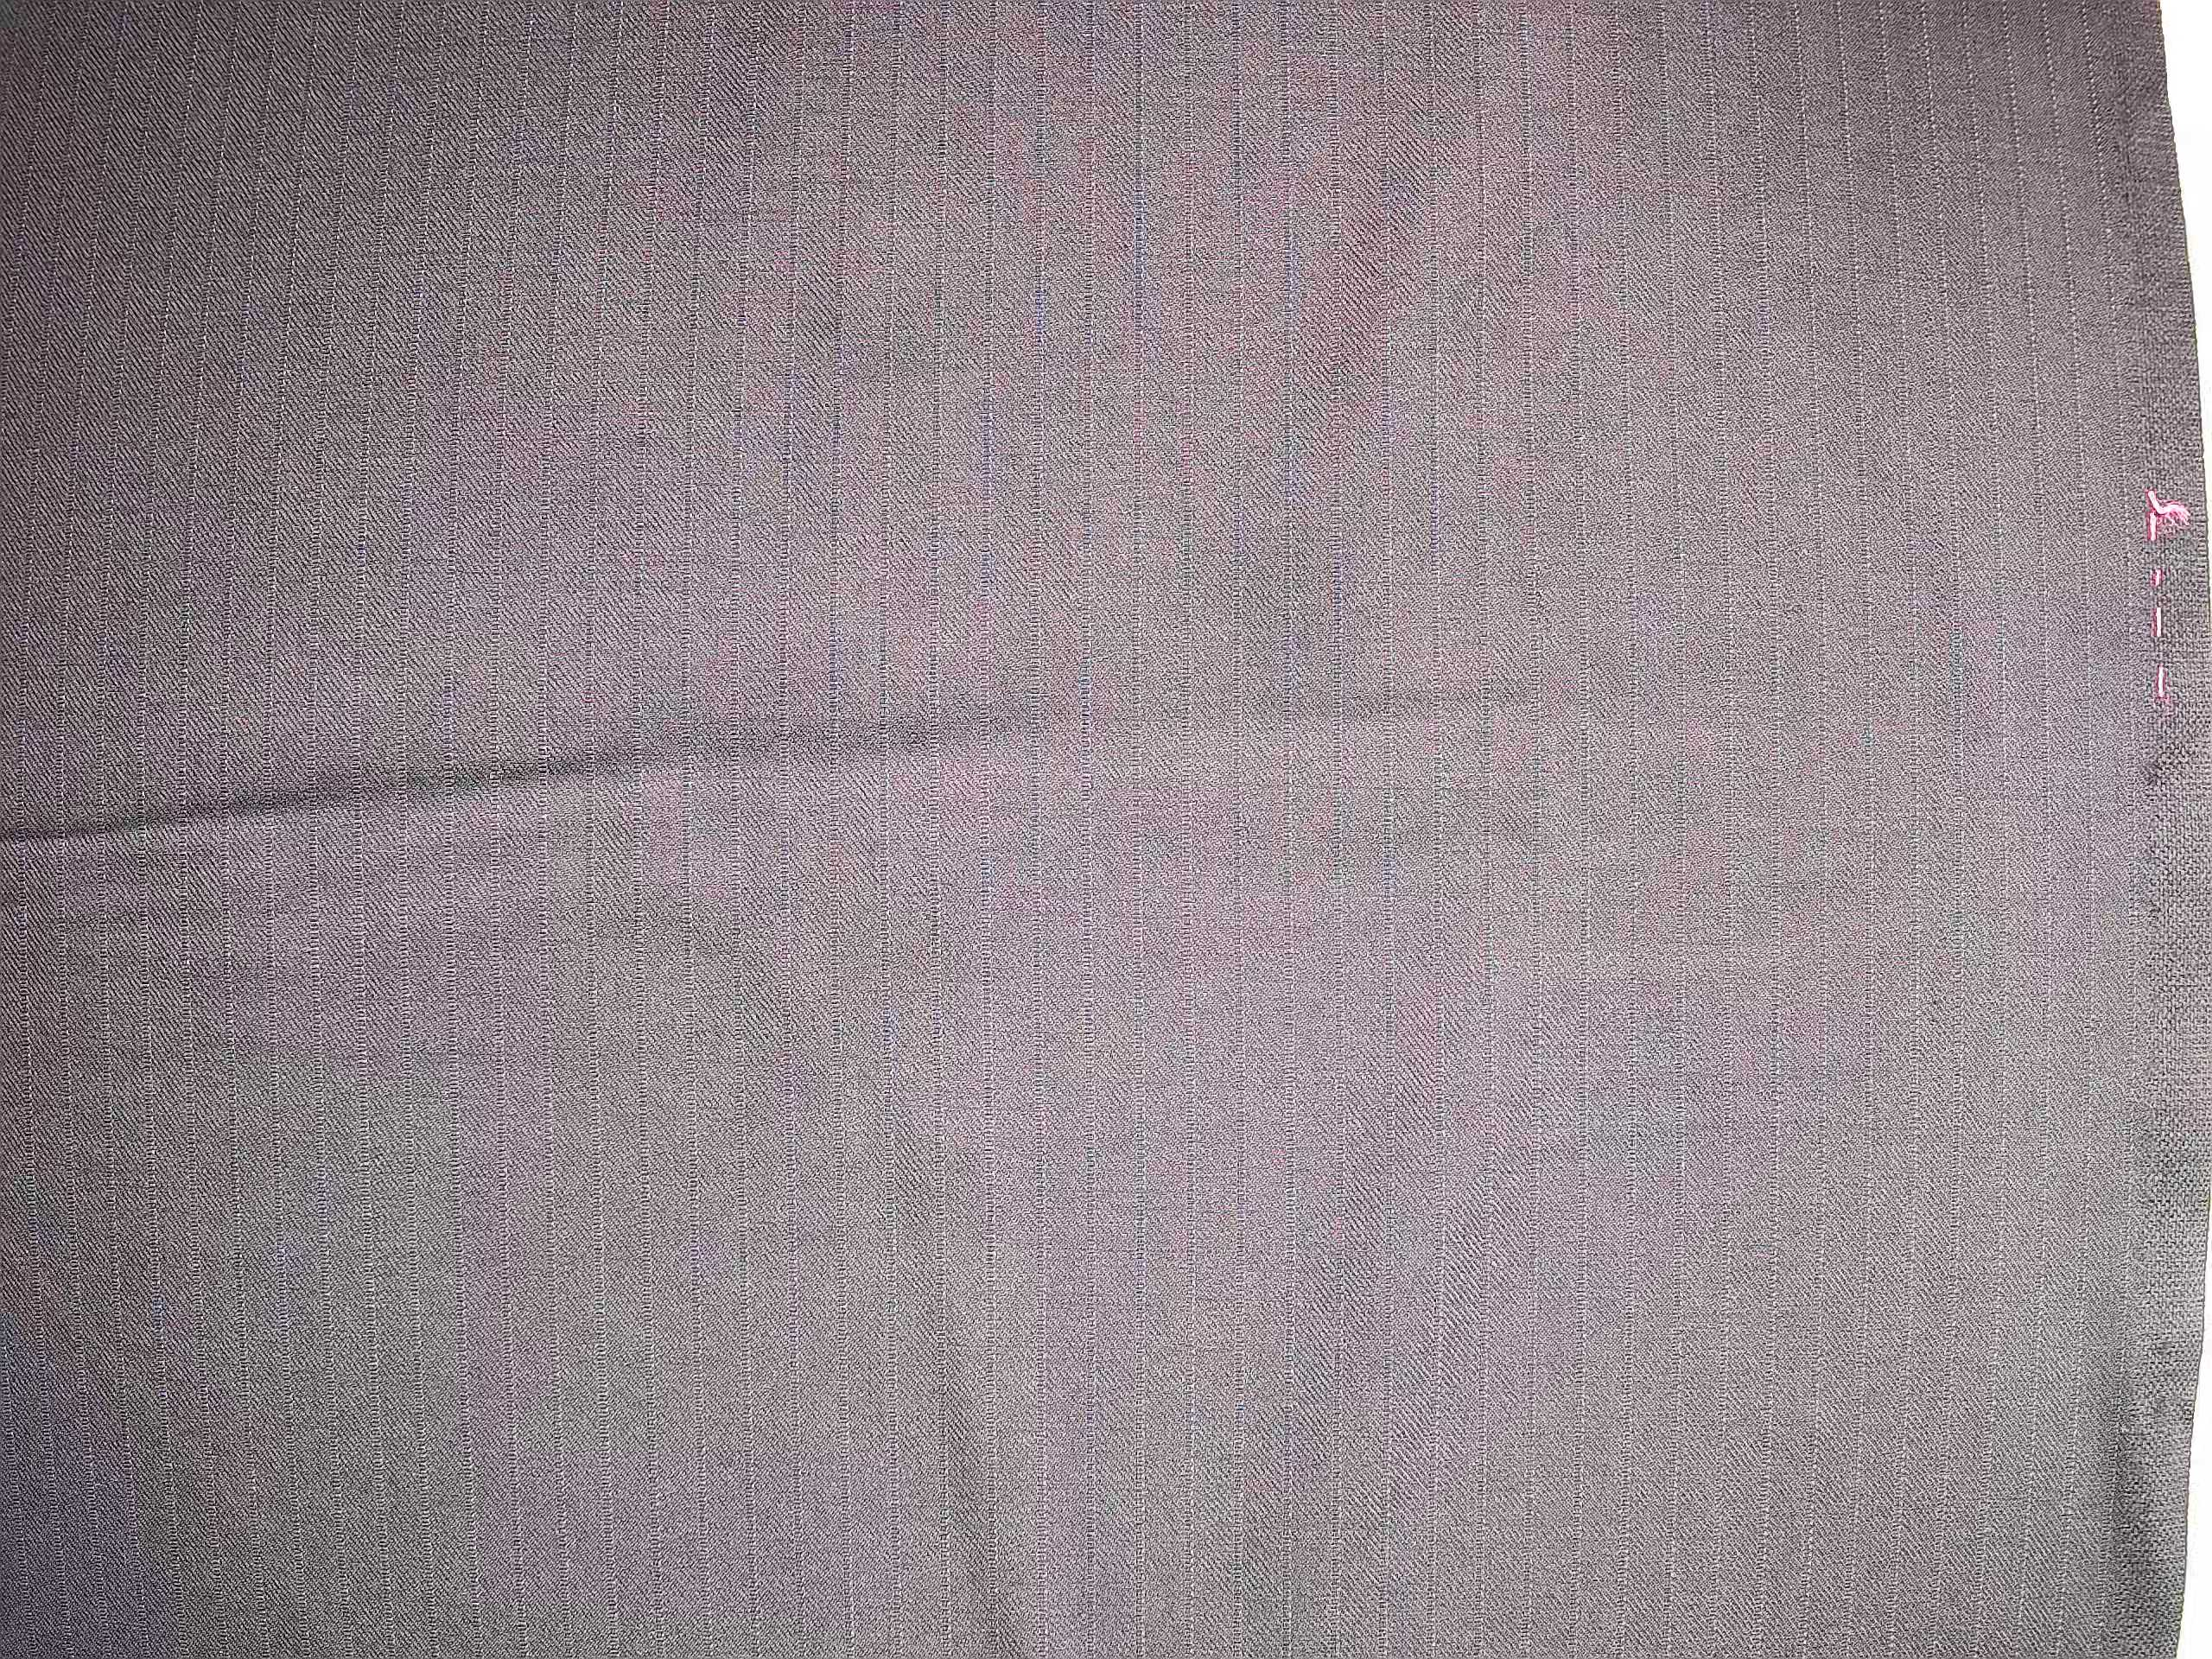hanging-warp: (1940, 460, 1989, 1018)
others: (498, 758, 1487, 807)
